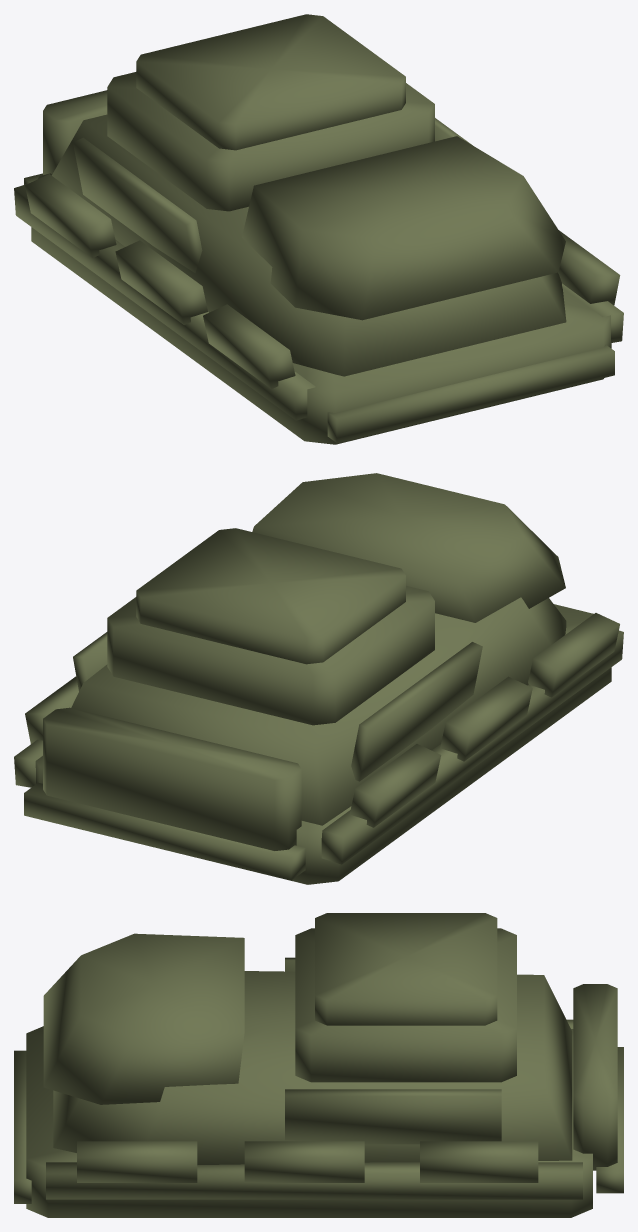
Rendered from apc_hull.obj.
3 views of the same model, one above another, from view 1: azimuth 30°, elevation 25°; view 2: azimuth 150°, elevation 25°; view 3: azimuth 270°, elevation 25° (orthographic). The views are drawn at different scales.
Parts seen in each view (by area): view 1: apc_hull; view 2: apc_hull; view 3: apc_hull.
Part boxes in pixels (box(x1,y1,x2,y2)): apc_hull: box(14, 14, 623, 444); apc_hull: box(14, 473, 623, 884); apc_hull: box(14, 913, 623, 1217).
Size of the model in its own units: 3.98 by 2.12 by 6.19.
